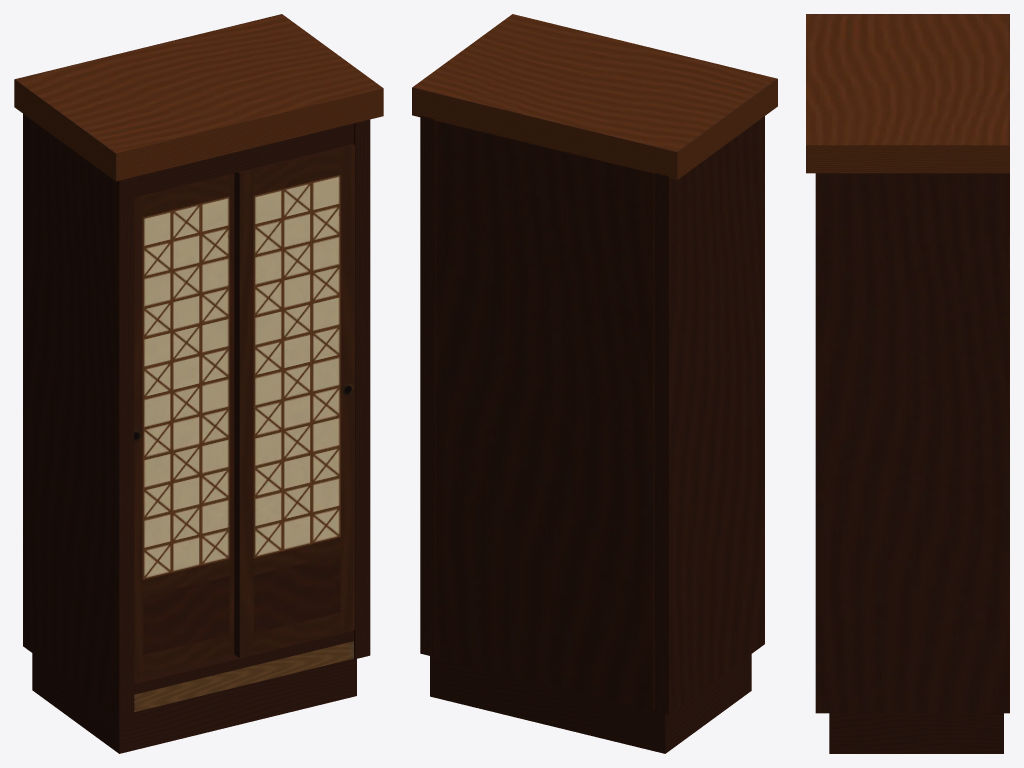
The model's file is kabutostand.glb.
3 renders of one model, left to right at view 1: azimuth 30°, elevation 25°; view 2: azimuth 150°, elevation 25°; view 3: azimuth 270°, elevation 25°, orthographic.
Visible parts, largest first — view 1: KabutoStandBody, KabutoStandDoorR, KabutoStandDoorL; view 2: KabutoStandBody; view 3: KabutoStandBody.
Boxes of the visible parts, box(x1,y1,x2,y2) form: KabutoStandBody: box(14, 14, 383, 753); KabutoStandDoorR: box(234, 144, 354, 658); KabutoStandDoorL: box(134, 173, 234, 678); KabutoStandBody: box(412, 14, 777, 753); KabutoStandBody: box(806, 14, 1009, 753).
Bounding box in the file's own units: 0.32 × 0.7 × 0.21.
Materials: 1 (1 with a texture image).
